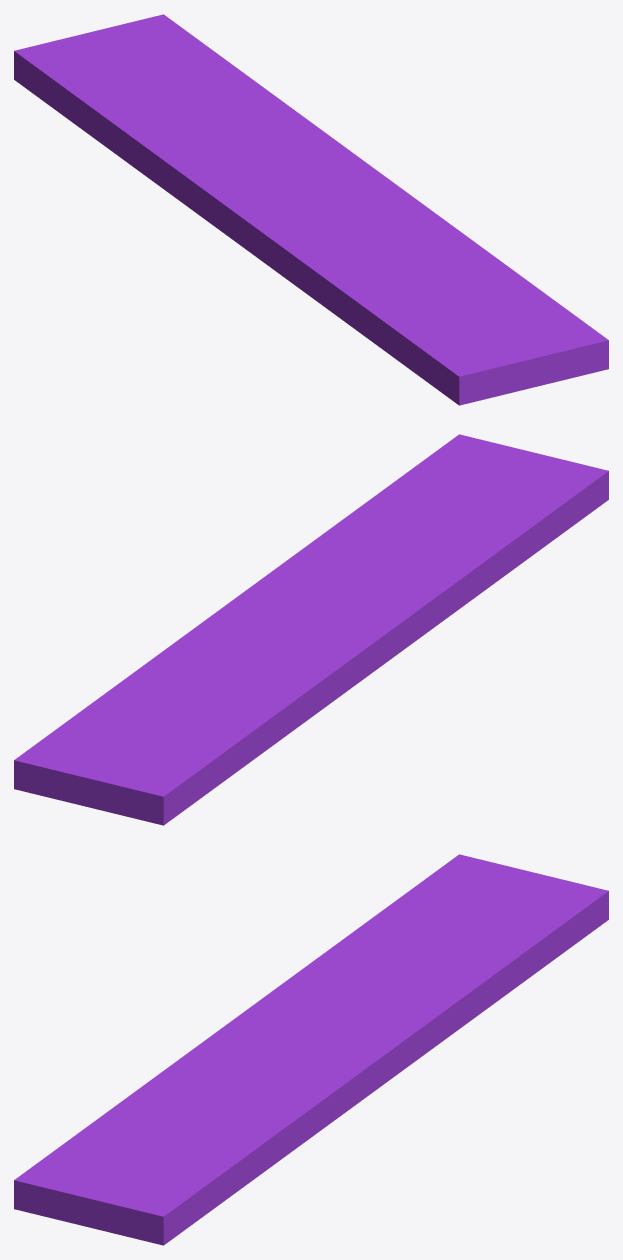
Rendered from StairsStep_130_chunks.fbx.
3 views of the same model, one above another, from view 1: azimuth 30°, elevation 25°; view 2: azimuth 150°, elevation 25°; view 3: azimuth 330°, elevation 25° (orthographic).
Parts seen in each view (by area): view 1: StairsStep_130_0, StairsStep_130_3, StairsStep_130_1, StairsStep_130_2; view 2: StairsStep_130_0, StairsStep_130_3, StairsStep_130_1, StairsStep_130_2; view 3: StairsStep_130_0, StairsStep_130_3, StairsStep_130_1, StairsStep_130_2.
Boxes of the visible parts, left/top/right/bottom form: StairsStep_130_0: left=14, top=14, right=371, bottom=208; StairsStep_130_3: left=285, top=189, right=599, bottom=405; StairsStep_130_1: left=332, top=166, right=608, bottom=381; StairsStep_130_2: left=190, top=187, right=347, bottom=323; StairsStep_130_0: left=14, top=608, right=350, bottom=825; StairsStep_130_3: left=288, top=436, right=608, bottom=624; StairsStep_130_1: left=222, top=434, right=467, bottom=611; StairsStep_130_2: left=326, top=581, right=496, bottom=696; StairsStep_130_0: left=273, top=854, right=608, bottom=1065; StairsStep_130_3: left=14, top=1026, right=334, bottom=1232; StairsStep_130_1: left=111, top=1040, right=408, bottom=1245; StairsStep_130_2: left=183, top=991, right=296, bottom=1056.
Size of the model in its own units: 157 by 28.98 by 810.
